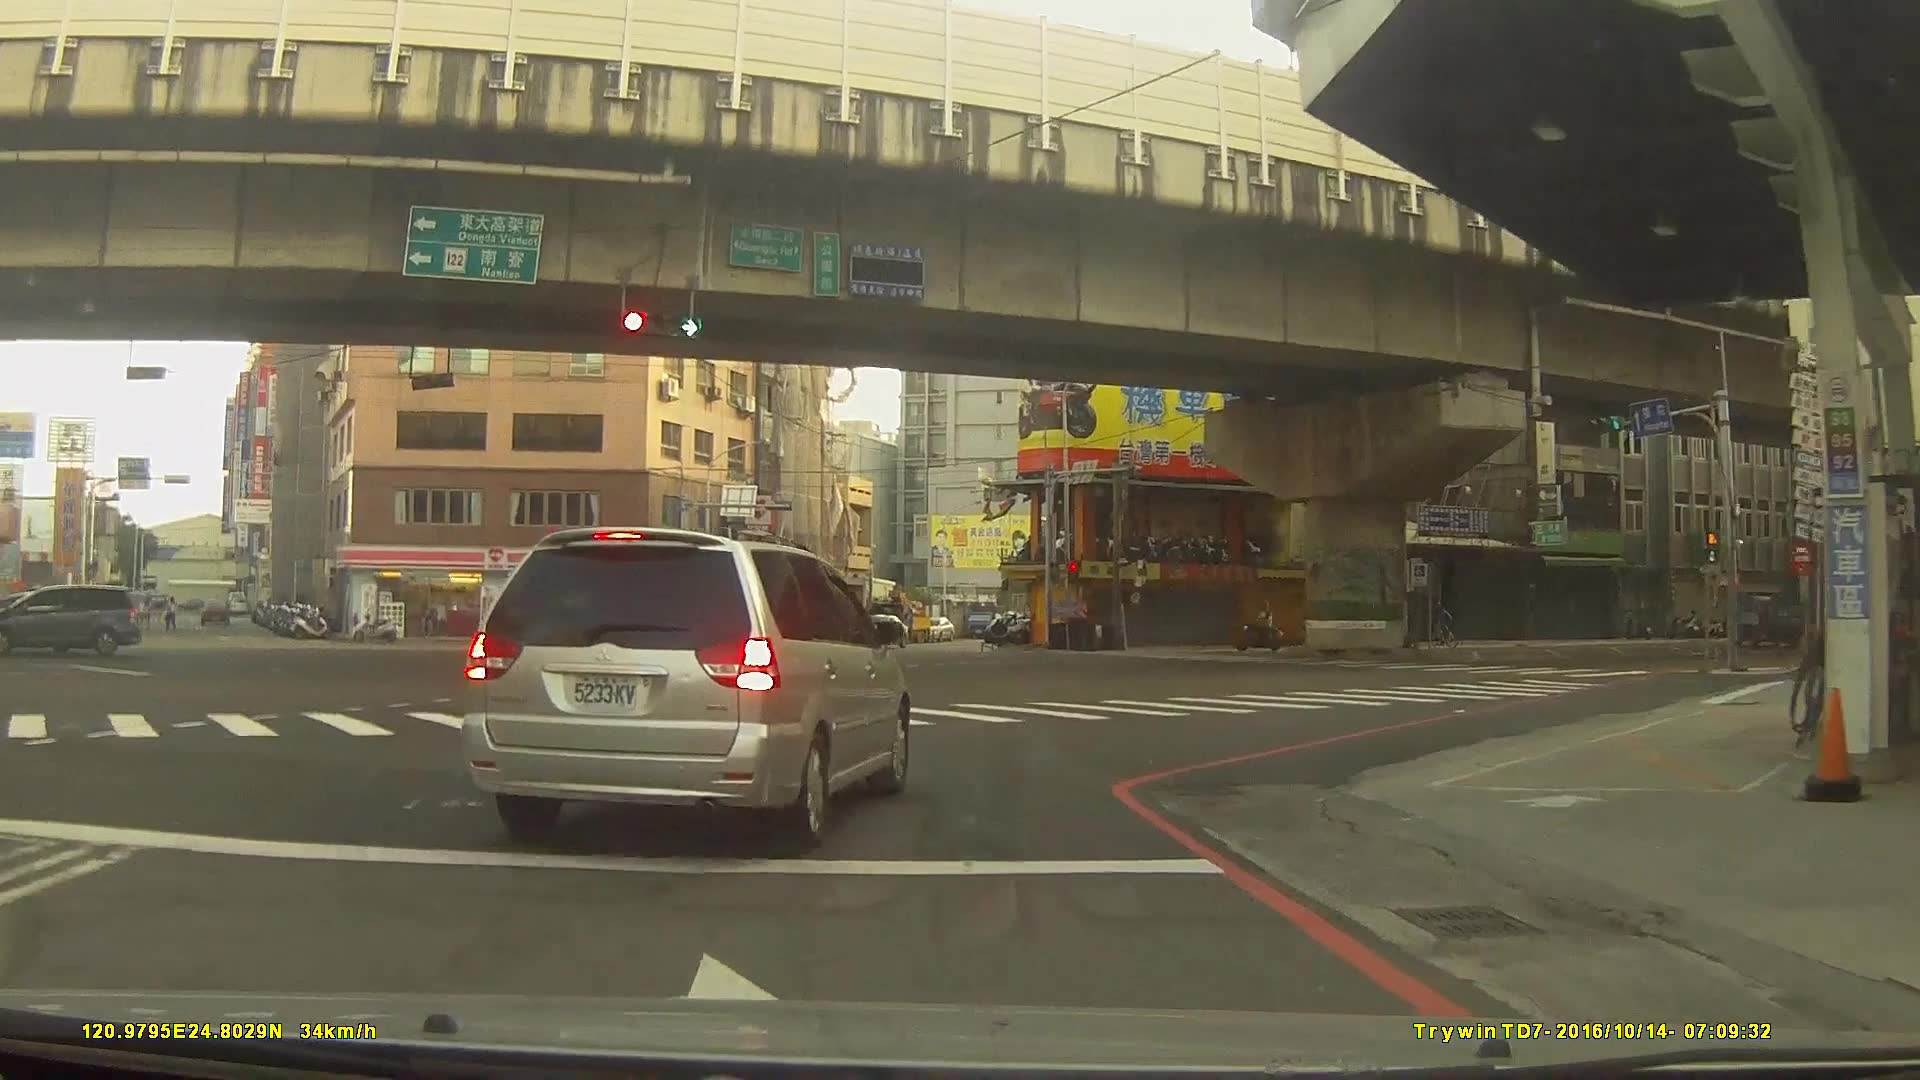rider: (1236, 602, 1285, 654)
vehicle: (464, 524, 911, 850), (0, 580, 141, 655), (1733, 587, 1807, 651), (839, 616, 903, 653), (543, 606, 605, 633), (194, 594, 228, 625)
